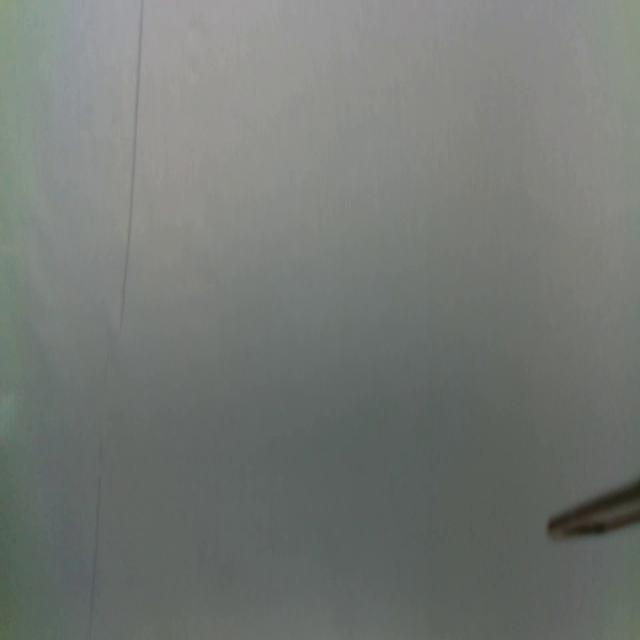crease: (116, 0, 150, 338)
